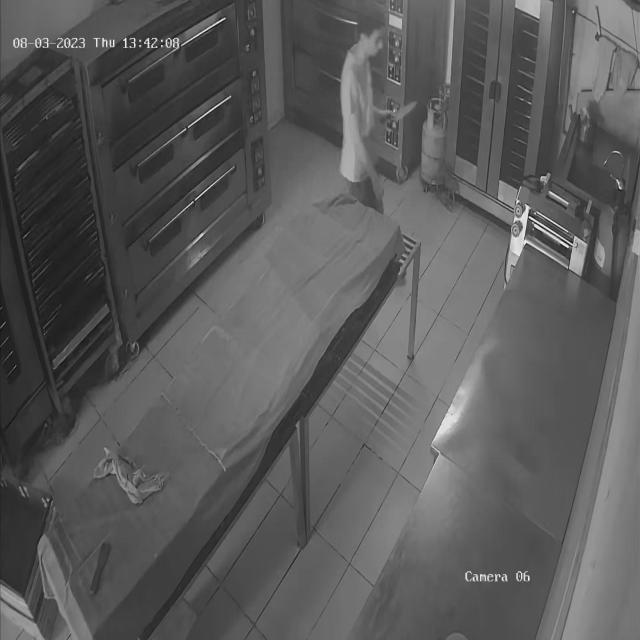Knife: (382, 94, 423, 127)
